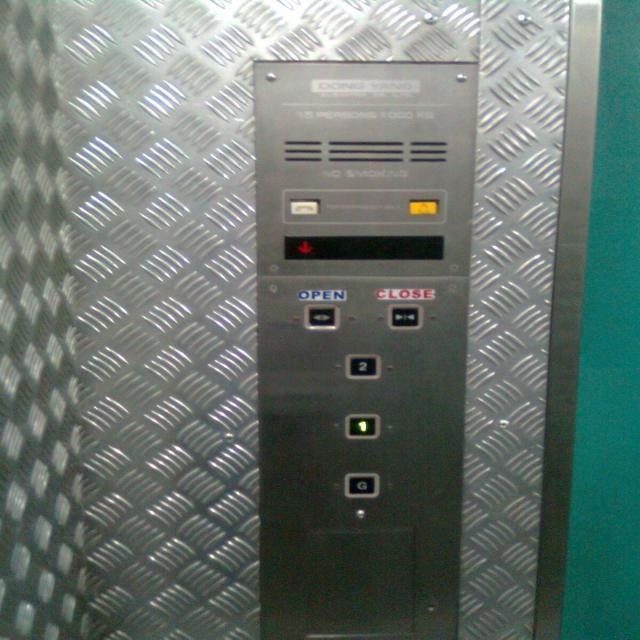1: (345, 414, 380, 439)
2: (346, 354, 380, 379)
G: (344, 473, 378, 497)
alarm: (407, 200, 438, 215)
call: (289, 199, 320, 216)
close: (387, 304, 422, 329)
led: (277, 230, 447, 262)
open: (305, 304, 338, 329)
